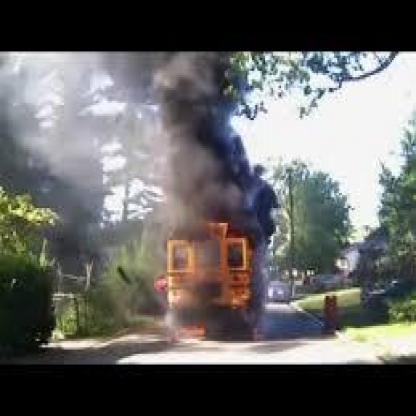smoke: (2, 50, 299, 231)
